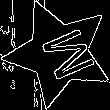M_SW: (26, 22, 92, 84)
